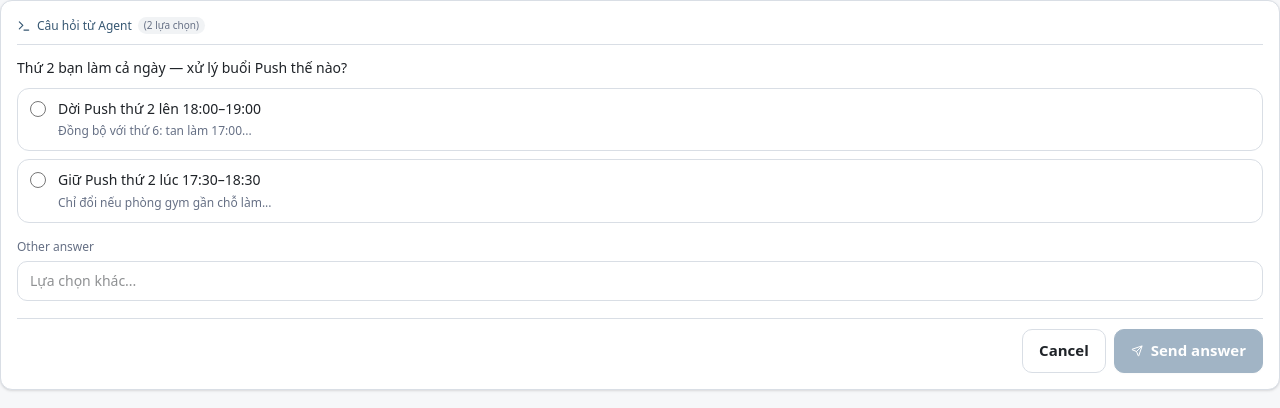
Scenario: InteractionCard › immediately hides the card and displays natural selected text upon choosing option 2
Click the radio button labelled "Giữ Push thứ 2 lúc 17:30–18:30" at [38, 180], box 30,172 -> 46,188
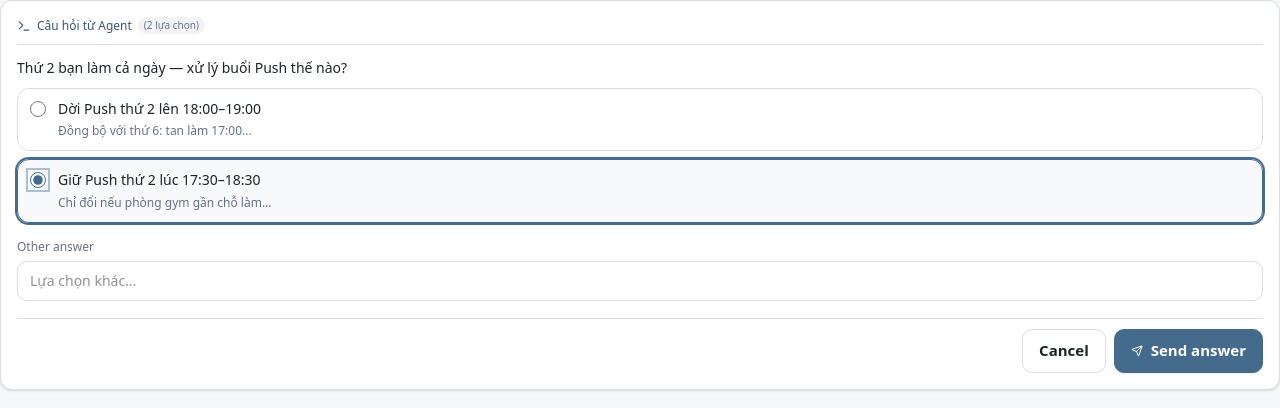
expect the button "Send answer" is enabled: met
Click the button "Send answer" at [1188, 351], box 1114,329 -> 1263,373
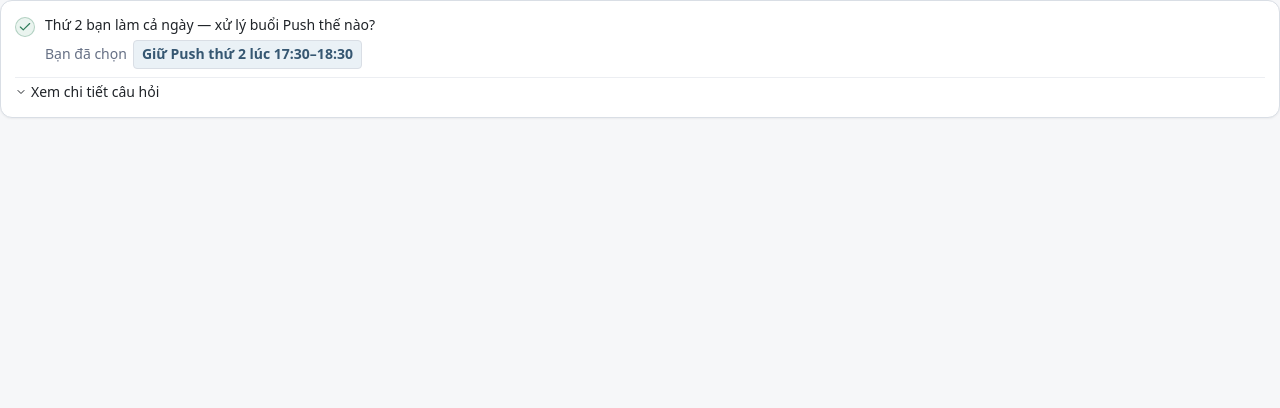
expect the text "Other answer" is gone: met
expect the button "Send answer" is gone: met
expect the text "Bạn đã chọn" is shown: met, box 45,43 -> 127,66
